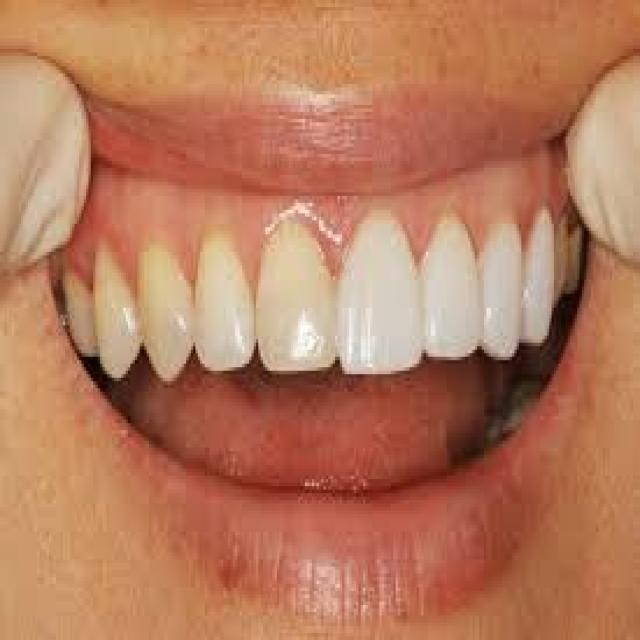tooth: (263, 220, 337, 371), (349, 227, 428, 364), (196, 248, 253, 357), (430, 228, 474, 360), (137, 259, 195, 357), (93, 248, 135, 360), (484, 231, 519, 353), (519, 220, 549, 346), (65, 256, 93, 360)
